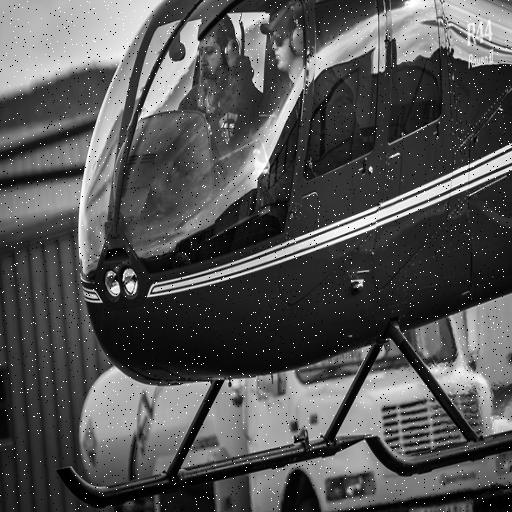helicopter: (50, 1, 512, 500)
